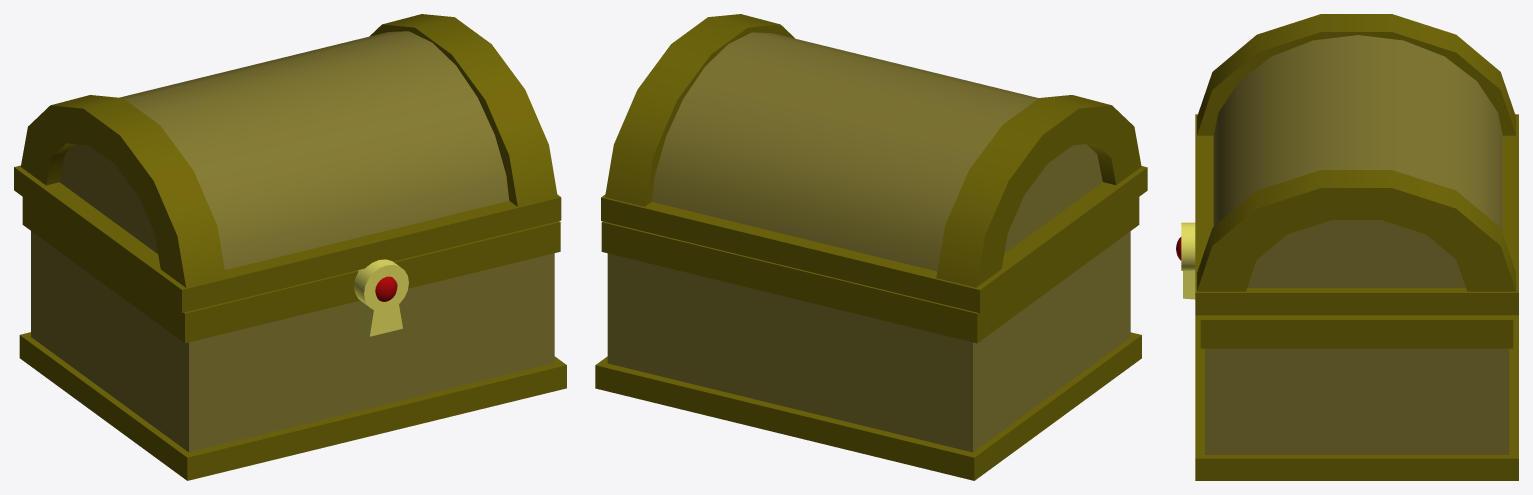
The model's file is chest.fbx.
The picture shows the model from 3 angles, left to right: view 1: azimuth 30°, elevation 25°; view 2: azimuth 150°, elevation 25°; view 3: azimuth 270°, elevation 25°; orthographic projection. The views are drawn at different scales.
Parts seen in each view (by area): view 1: chesthead, chest_body, pCube1, pPipe2, pCube3, cube_bind, pPipe3, pPipe1, pCube2; view 2: chesthead, chest_body, pCube1, cube_bind, pPipe2, pCube3, pPipe3; view 3: chesthead, chest_body, pPipe3, pCube1, pCube3, cube_bind, pPipe2, pPipe1, pCube2.
Part boxes in pixels (x1,y1,x2,y2): chesthead: [59, 31, 509, 269]; chest_body: [31, 231, 554, 452]; pCube1: [14, 165, 561, 312]; pPipe2: [20, 95, 225, 287]; pCube3: [19, 332, 566, 480]; cube_bind: [22, 197, 560, 343]; pPipe3: [369, 14, 557, 206]; pPipe1: [354, 259, 408, 311]; pCube2: [357, 301, 402, 336]; chesthead: [652, 32, 1102, 271]; chest_body: [607, 231, 1130, 452]; pCube1: [601, 166, 1147, 313]; cube_bind: [601, 197, 1139, 343]; pPipe2: [936, 95, 1141, 287]; pCube3: [595, 332, 1141, 480]; pPipe3: [605, 14, 794, 206]; chesthead: [1213, 35, 1502, 287]; chest_body: [1205, 348, 1509, 454]; pPipe3: [1197, 170, 1516, 291]; pCube1: [1195, 114, 1518, 315]; pCube3: [1195, 315, 1518, 480]; cube_bind: [1200, 315, 1513, 348]; pPipe2: [1197, 14, 1516, 135]; pPipe1: [1181, 222, 1195, 270]; pCube2: [1183, 270, 1195, 299].
Size of the model in its own units: 9.5 by 7.05 by 7.6.
